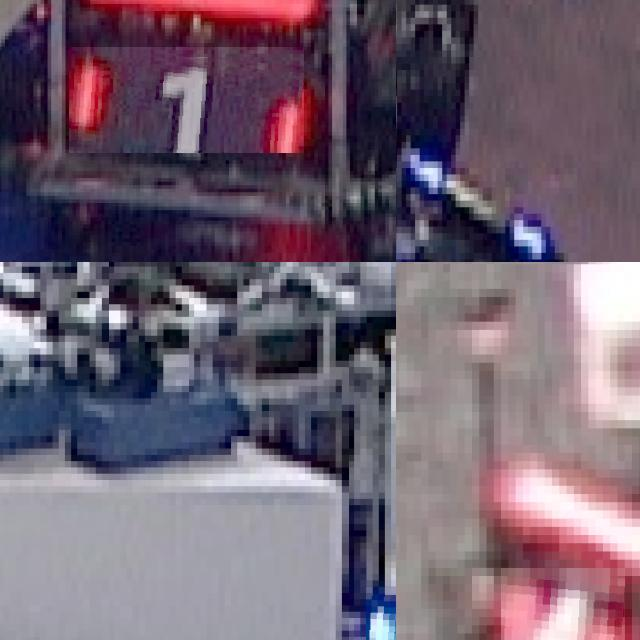B2: (366, 586, 396, 640)
R1: (69, 47, 304, 153)
R4: (501, 567, 624, 640)
